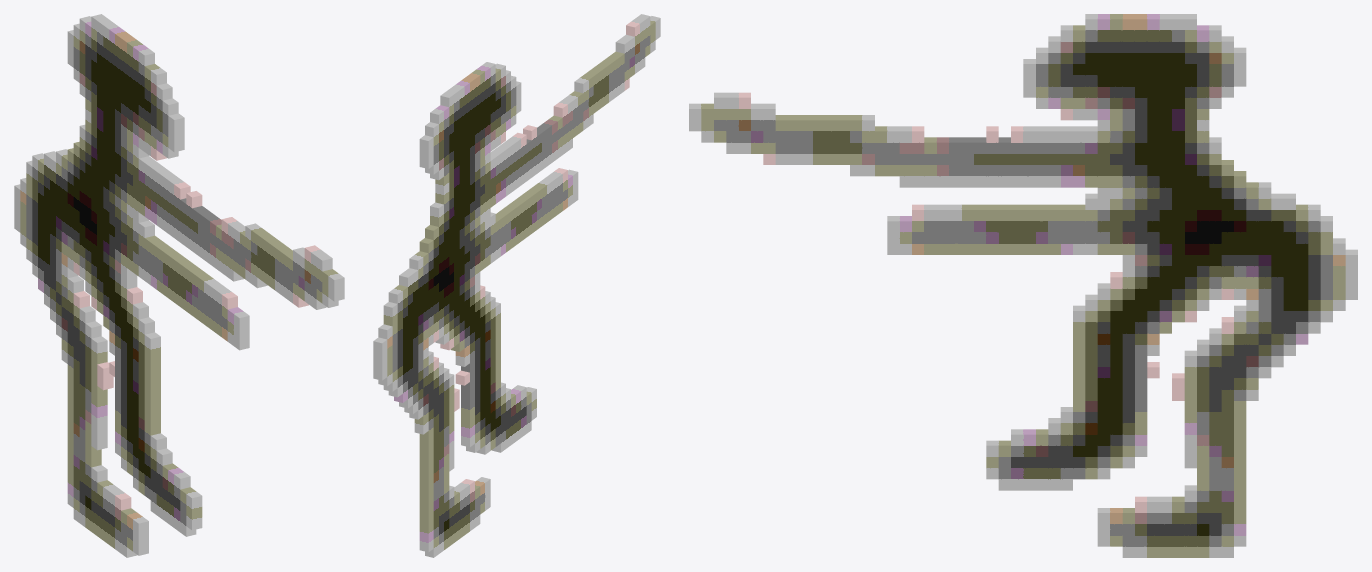
File: 电摇动作1.gltf
The picture shows the model from 3 angles, left to right: view 1: azimuth 30°, elevation 25°; view 2: azimuth 150°, elevation 25°; view 3: azimuth 270°, elevation 25°; orthographic projection. The views are drawn at different scales.
Parts seen in each view (by area): view 1: Object; view 2: Object; view 3: Object.
Part boxes in pixels (x1,y1,x2,y2): Object: [14, 14, 344, 557]; Object: [373, 14, 660, 557]; Object: [689, 14, 1357, 557].
Bounding box in the file's own units: 1 × 48 × 54.
1 material, 1 textured.
